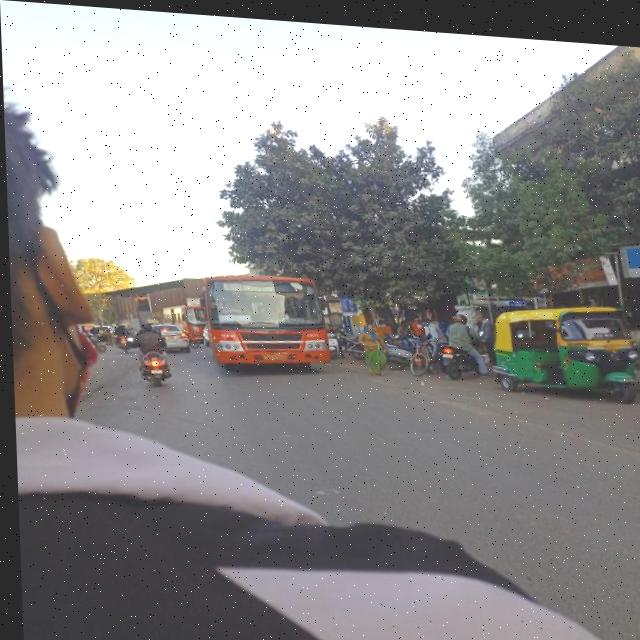plate: (260, 347, 287, 359), (438, 345, 453, 353), (146, 366, 162, 373)
